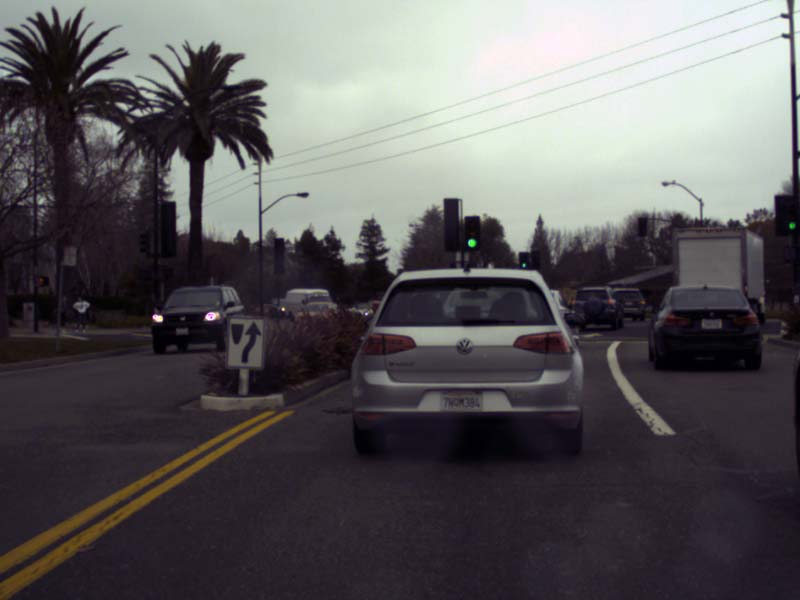Green: (464, 217, 480, 249), (786, 203, 799, 232), (518, 251, 528, 271)
Red: (638, 217, 647, 234), (531, 250, 539, 269)
